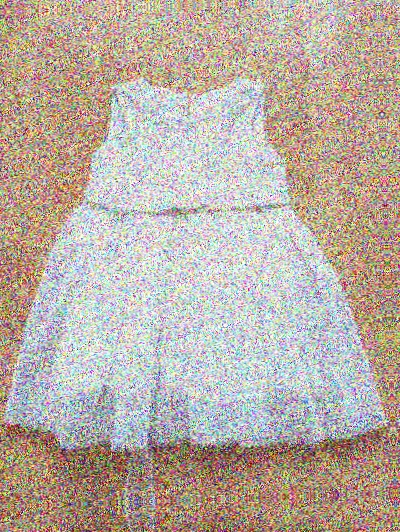Dress: (0, 33, 391, 466), (383, 20, 400, 452)
